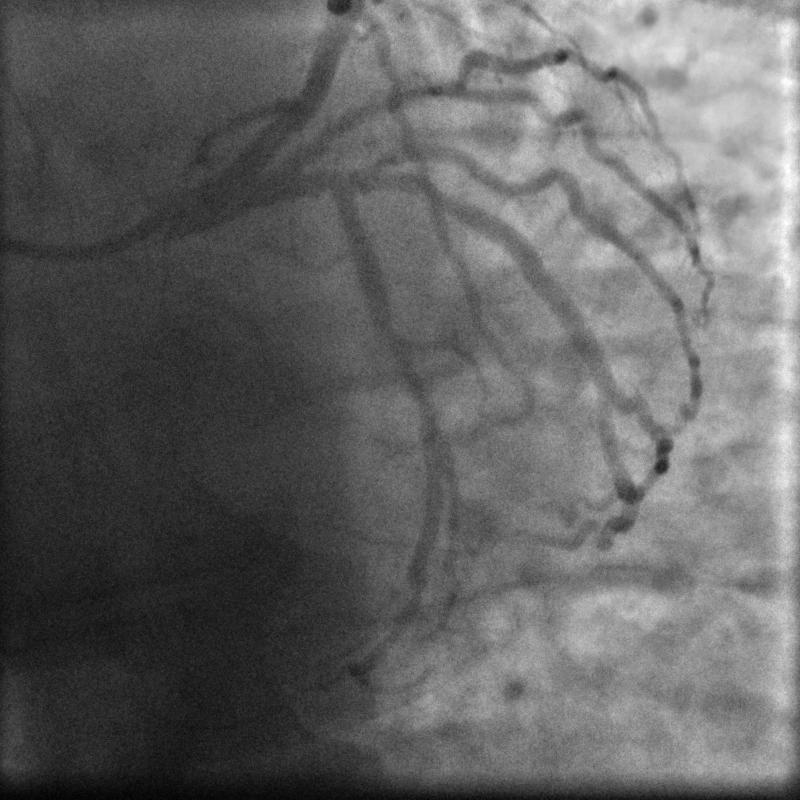Stenosis: (387, 333, 439, 427)
